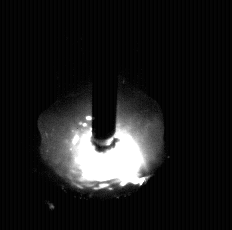arame: (92, 0, 117, 152)
poca: (41, 0, 163, 230)
